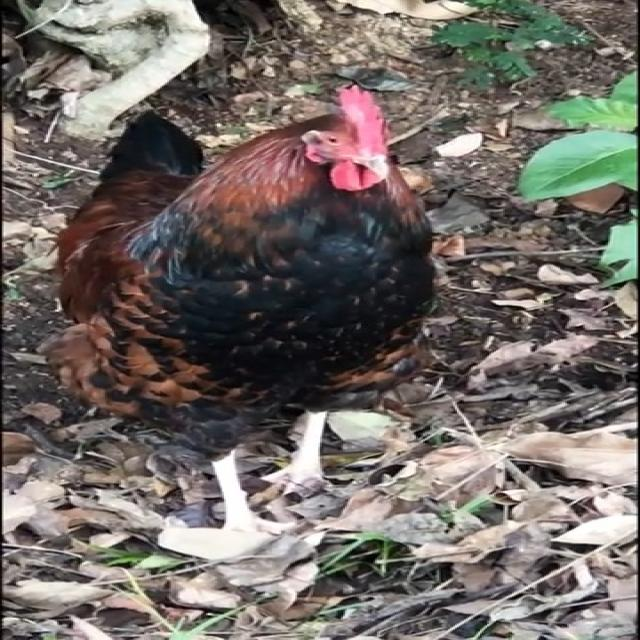walking: (53, 74, 427, 550)
